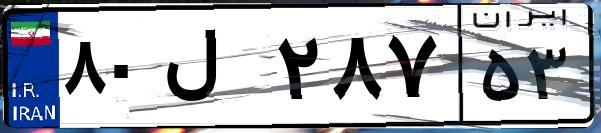0: (110, 28, 158, 98)
2: (270, 28, 330, 110)
3: (525, 38, 570, 115)
5: (475, 38, 525, 113)
7: (385, 28, 445, 110)
8: (330, 28, 385, 110), (57, 26, 110, 100)
ل: (158, 20, 270, 120)
